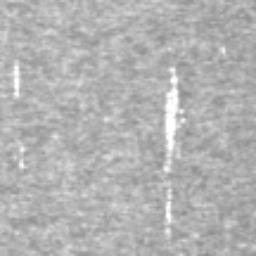White rust: (155, 67, 185, 179), (165, 188, 172, 224), (13, 59, 19, 100), (218, 44, 226, 55), (18, 144, 26, 154), (165, 227, 171, 239)
